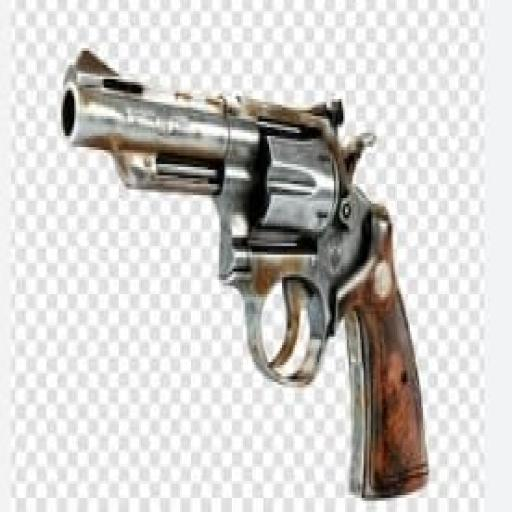Gun: (61, 51, 425, 495)
